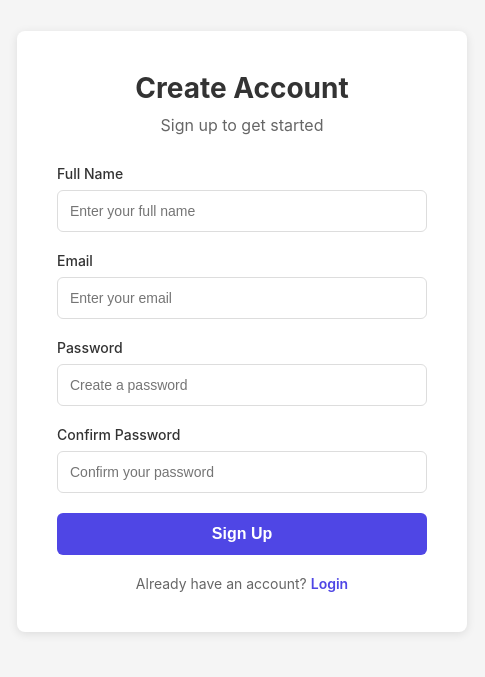
Scenario: Signup Component › should validate password confirmation
In the field labelled "Full Name": (242, 210) [57,190,427,232], type "Test User"
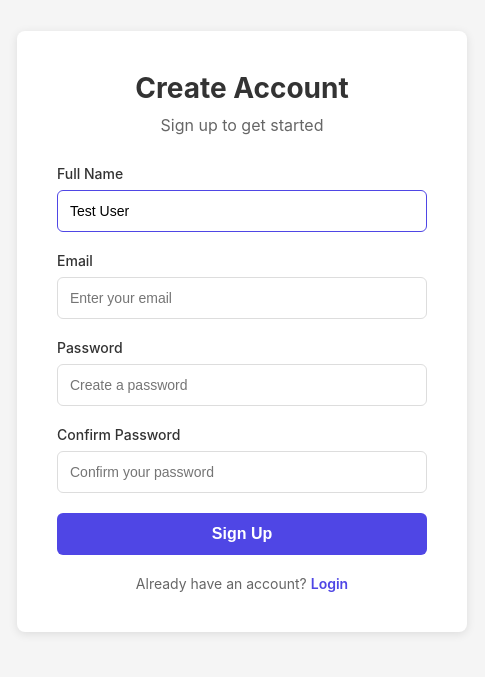
In the field labelled "Email": (242, 298) [57,276,427,318], type "test@example.com"
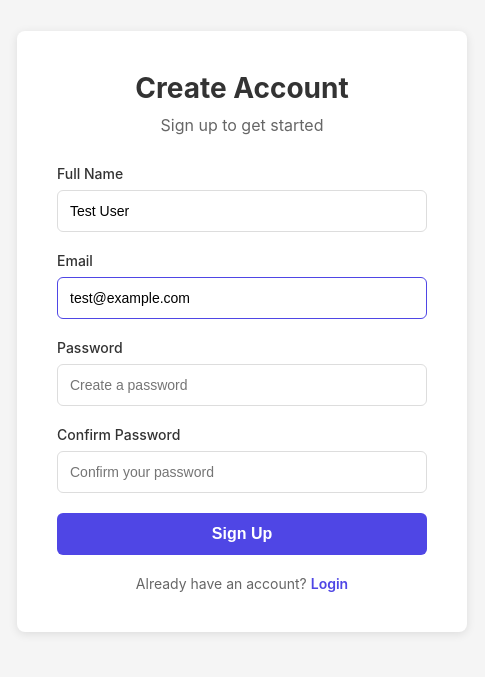
In the password field labelled "Password": (242, 384) [57,364,427,406], type "StrongPass123"
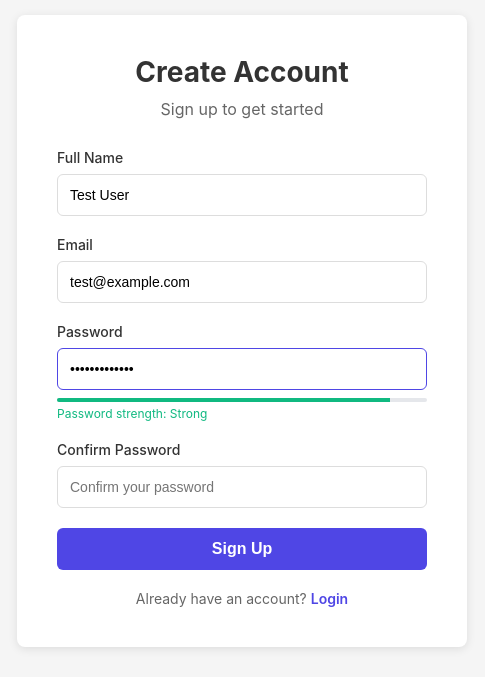
In the password field labelled "Confirm Password": (242, 487) [57,466,427,508], type "DifferentPass123"
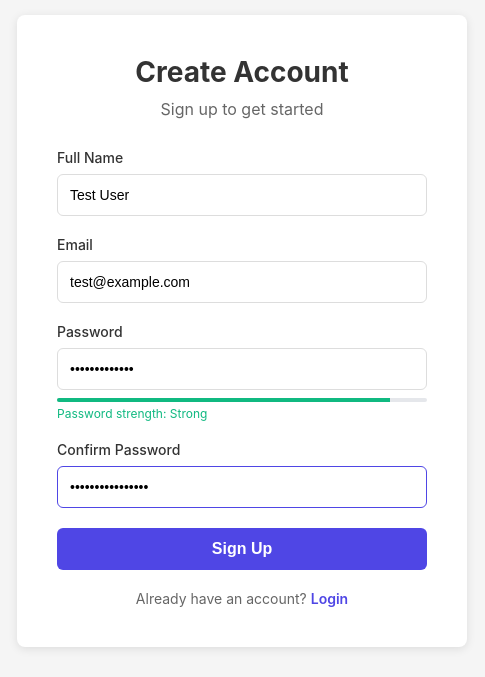
Click the button "Sign Up": (242, 549) [57,528,427,570]
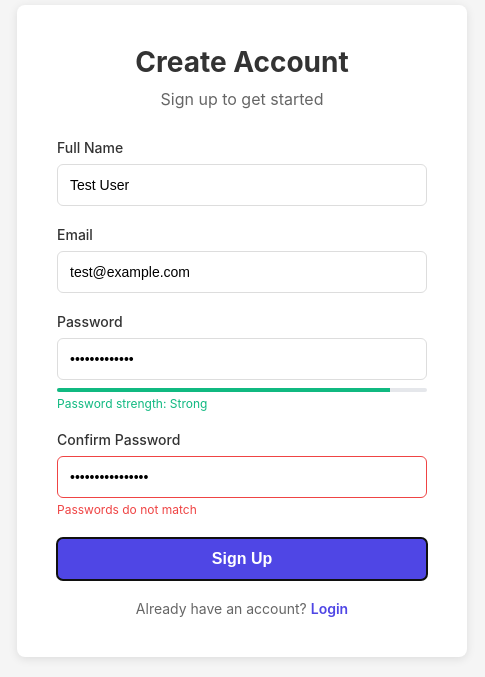
Check: the text "Passwords do not match" is shown, box [57,502,197,517]
